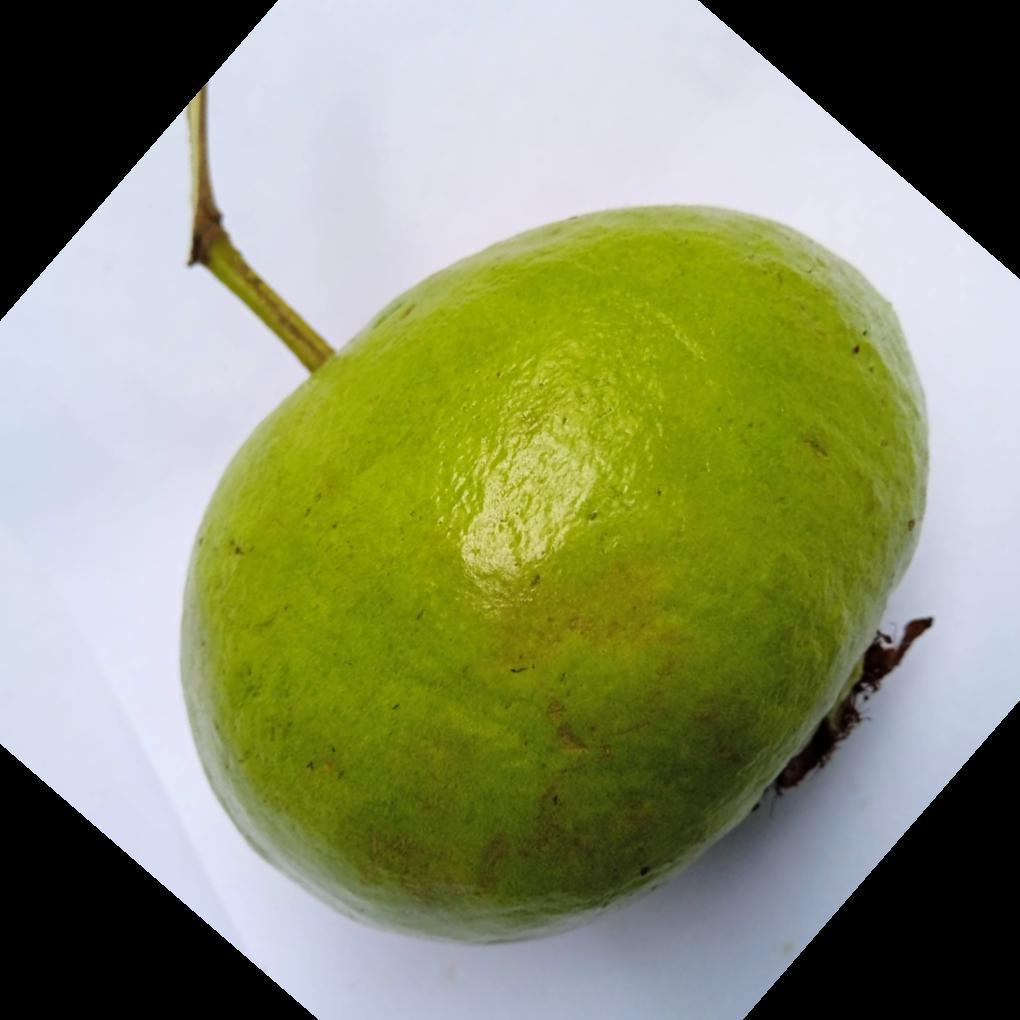FreshGuava: (174, 205, 930, 949)
